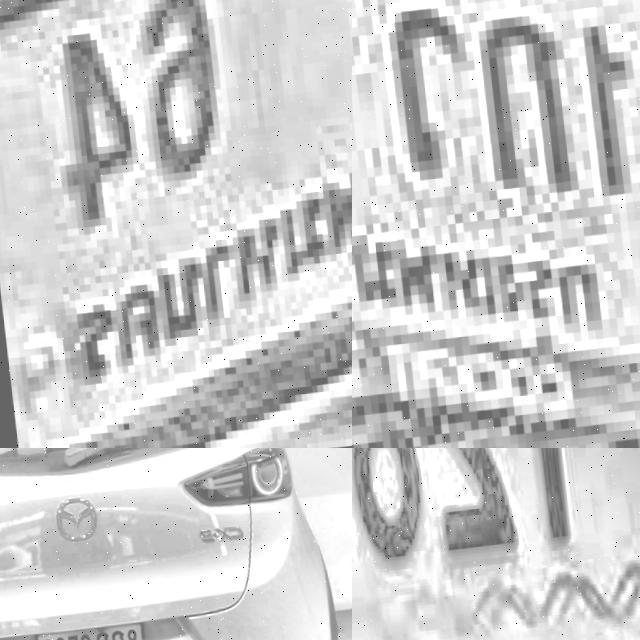license-plate: (0, 0, 352, 448), (352, 0, 640, 448), (352, 448, 640, 640), (28, 620, 147, 640)
